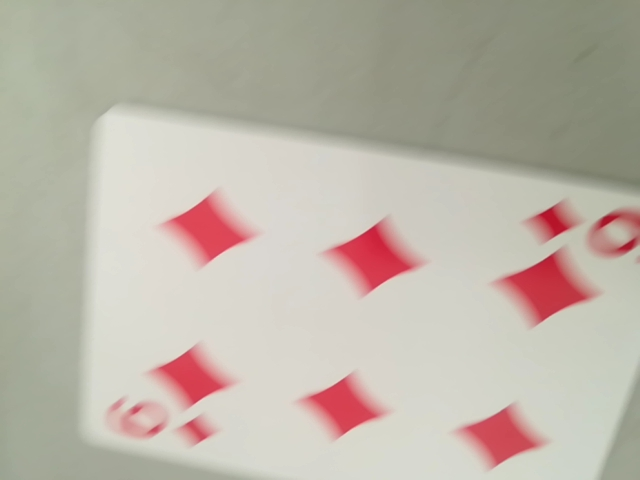fk 6: (99, 393, 227, 453), (518, 198, 637, 261)
